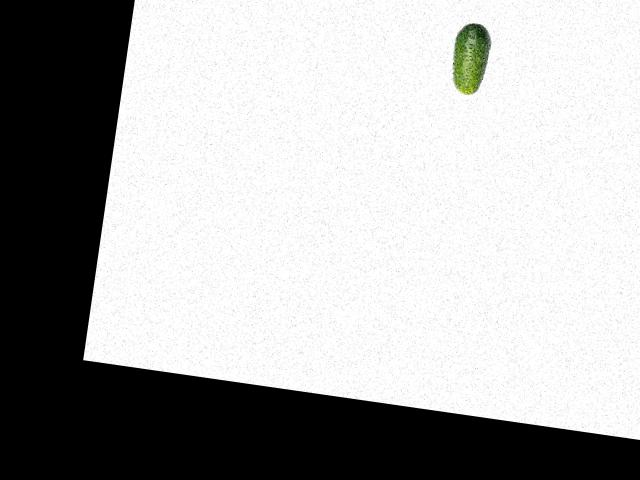cucumber: (446, 20, 493, 97)
